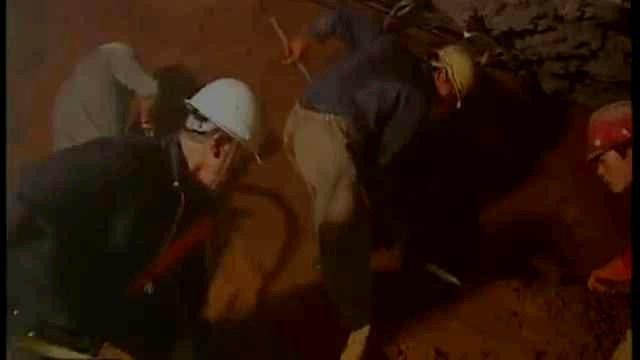helmet: (177, 76, 264, 195), (584, 100, 632, 194), (430, 43, 477, 110)
